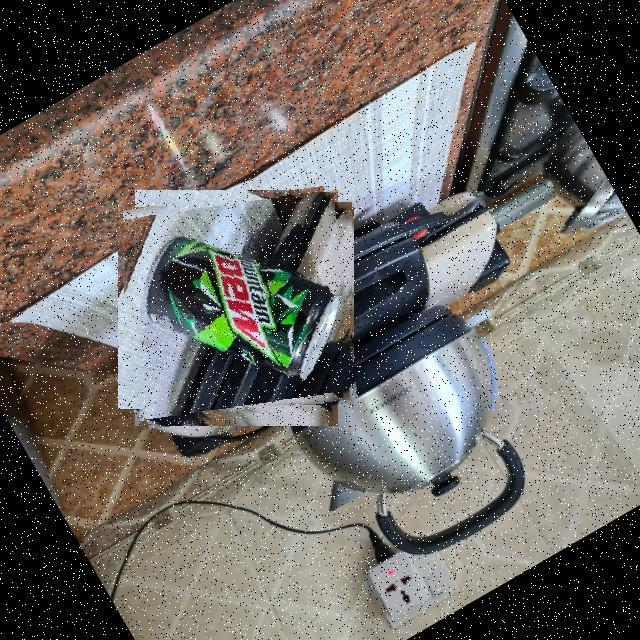recyclable: (121, 192, 352, 424)
